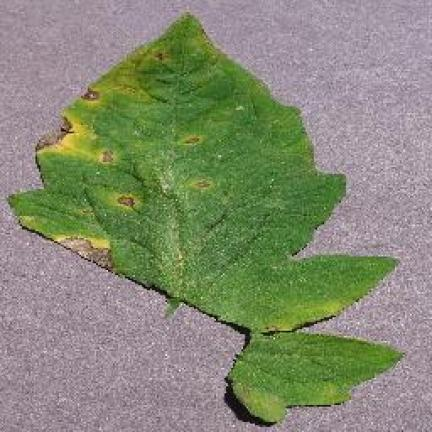disease: (10, 15, 393, 331), (253, 392, 278, 417), (235, 381, 245, 400), (250, 408, 265, 417), (233, 363, 240, 375)
leaf: (32, 41, 176, 167), (17, 211, 115, 273)
